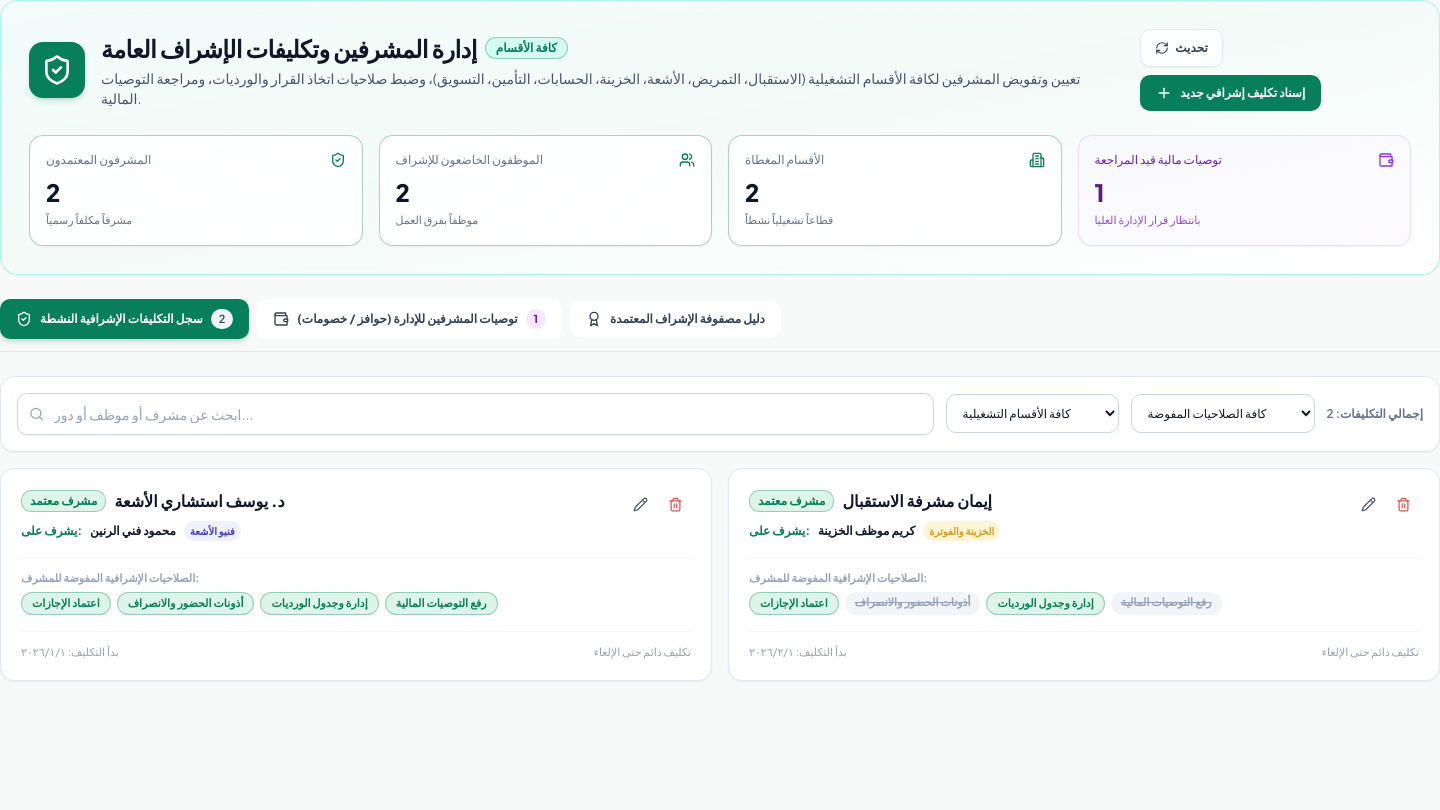
Test: ReceptionSupervisorManager (General Supervisor Management) › switches to supervisory matrix tab and displays role hierarchies
Click the button "دليل مصفوفة الإشراف المعتمدة".
click(675, 318)  # box 570,300 -> 781,336
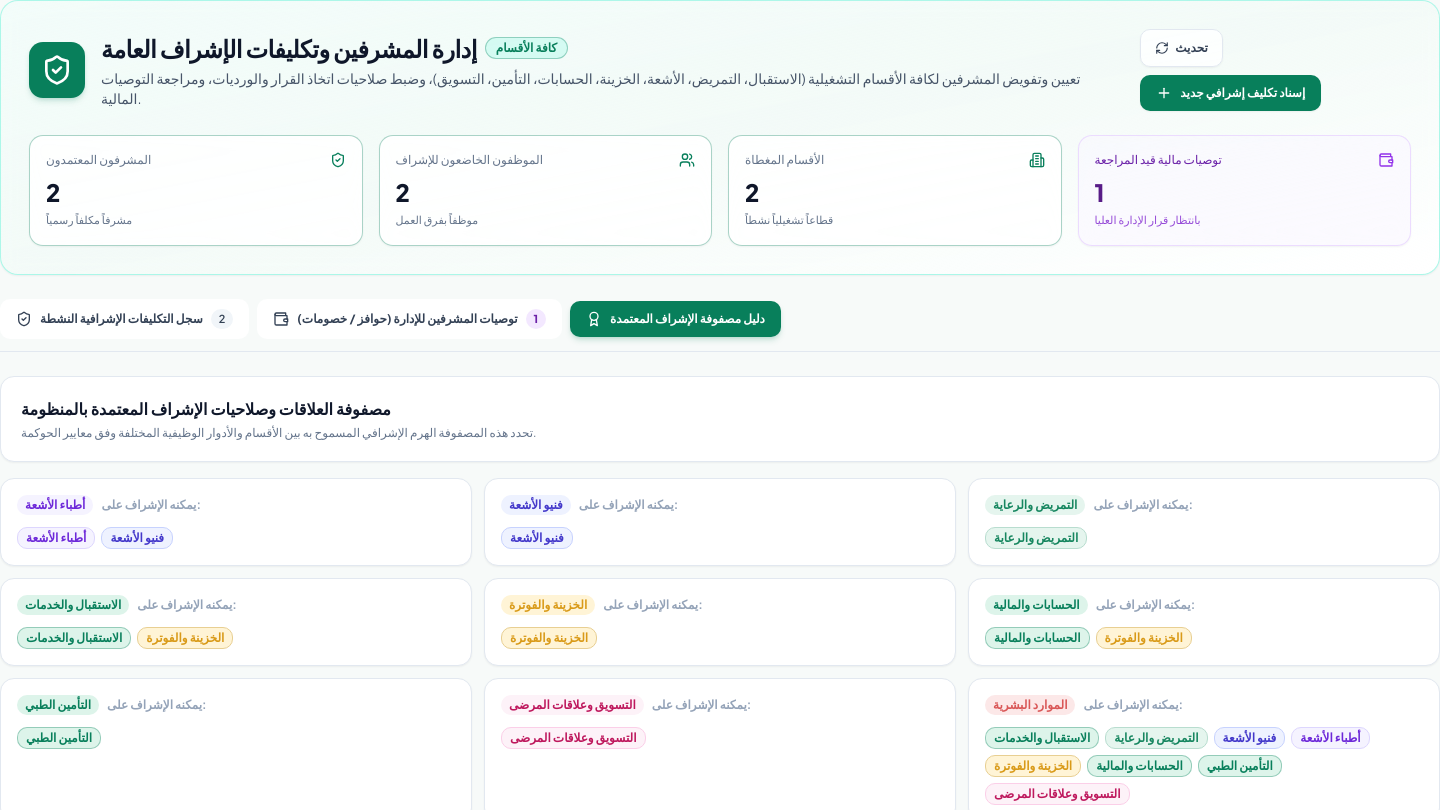
Check: the heading "مصفوفة العلاقات وصلاحيات الإشراف المعتمدة بالمنظومة" is shown, box 21,398 -> 391,418
